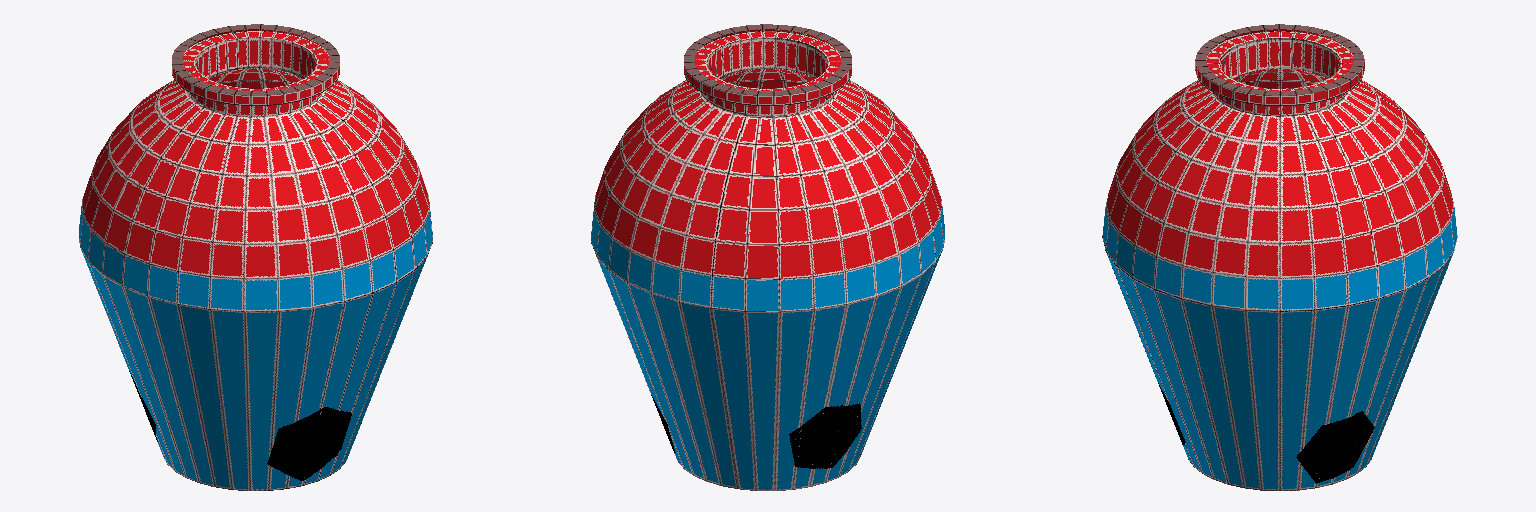
3 renders of one model, left to right at view 1: azimuth 30°, elevation 25°; view 2: azimuth 150°, elevation 25°; view 3: azimuth 270°, elevation 25°, orthographic.
Visible parts, largest first — view 1: Sphere; view 2: Sphere; view 3: Sphere.
Boxes of the visible parts, box(x1,y1,x2,y2) form: Sphere: box(79, 24, 432, 490); Sphere: box(591, 24, 944, 490); Sphere: box(1102, 24, 1457, 490).
Bounding box in the file's own units: 0.12 × 0.146 × 0.12.
1 materials, 1 textured.